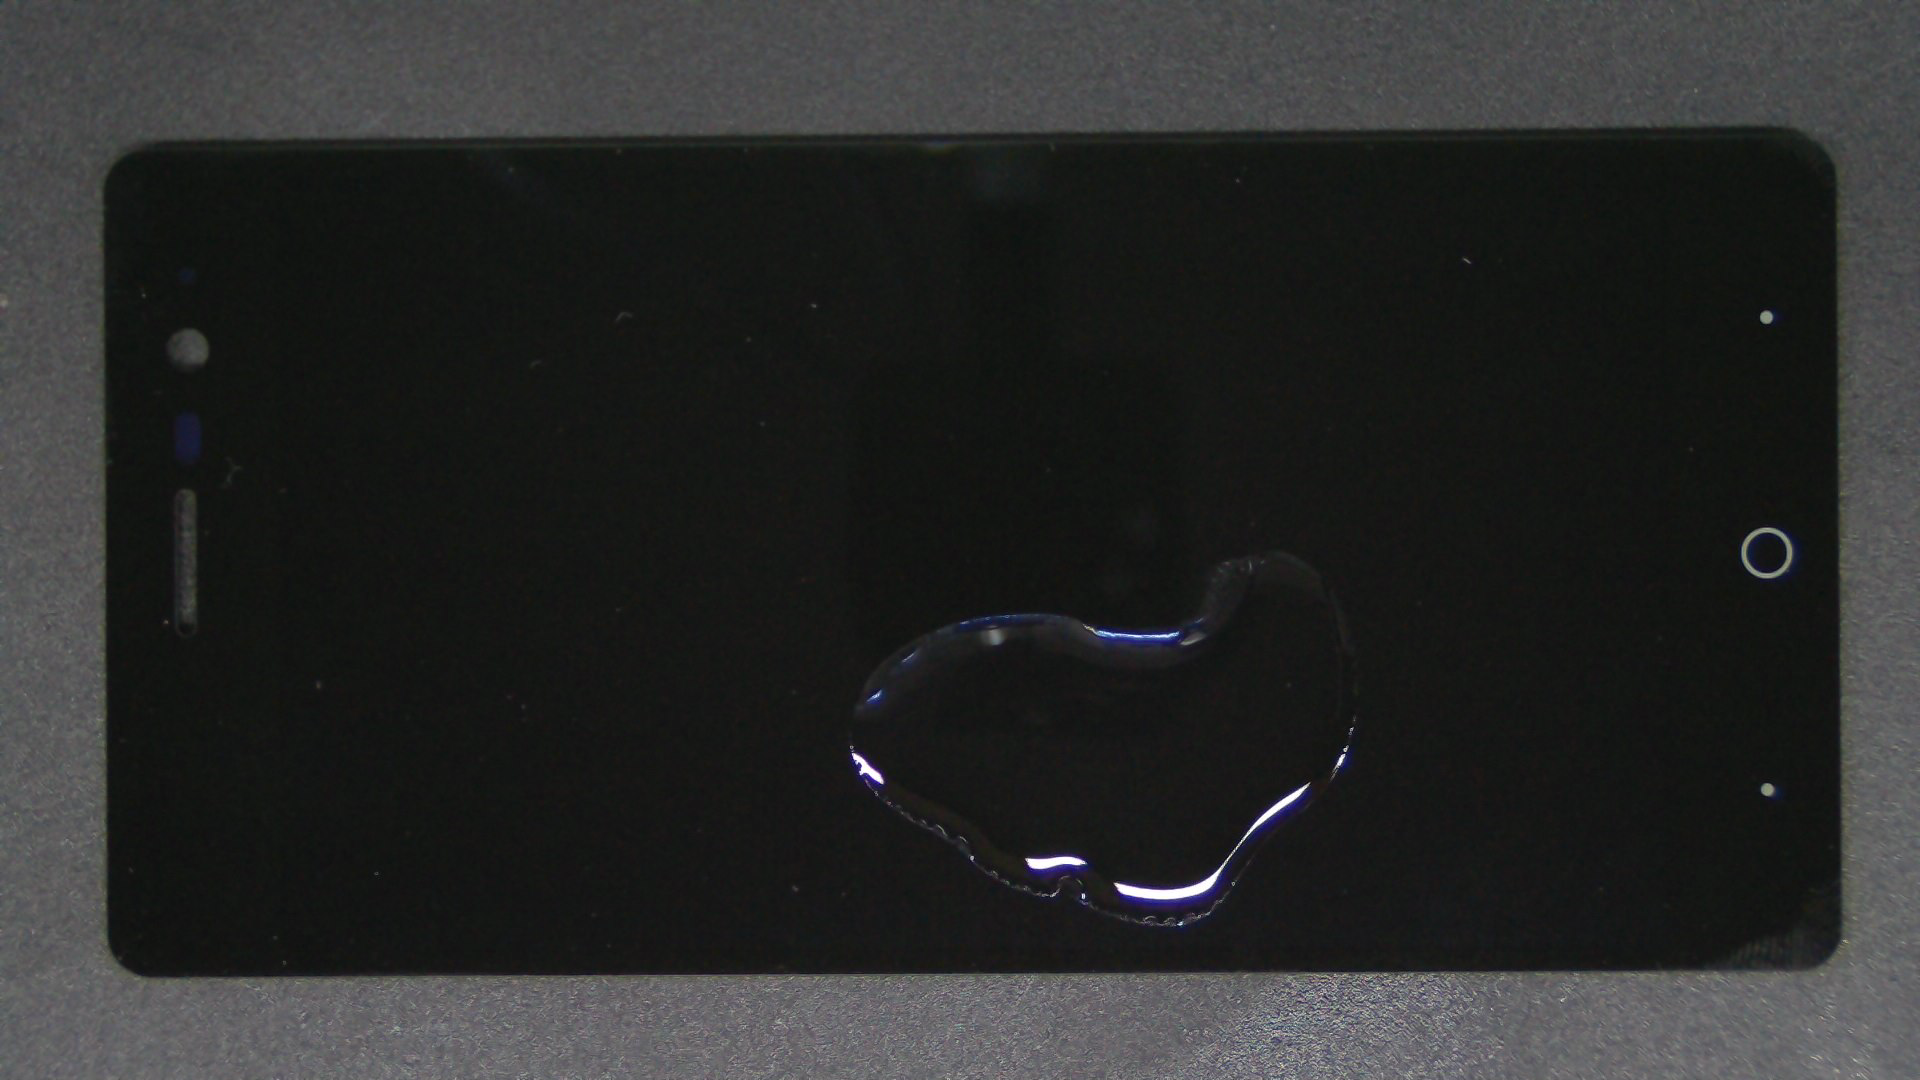defect: (849, 551, 1361, 927)
